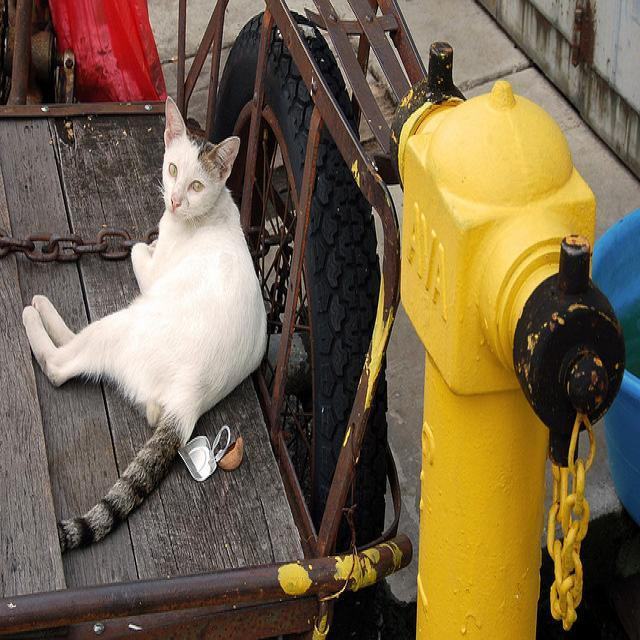fire_hydrant: (388, 40, 628, 640)
